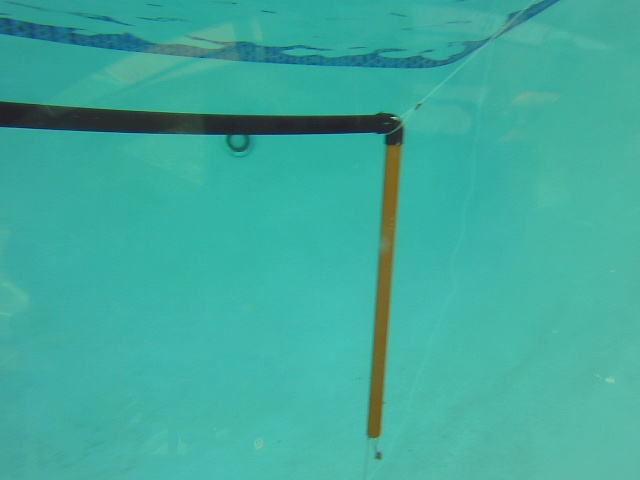Gate: (350, 137, 409, 447)
